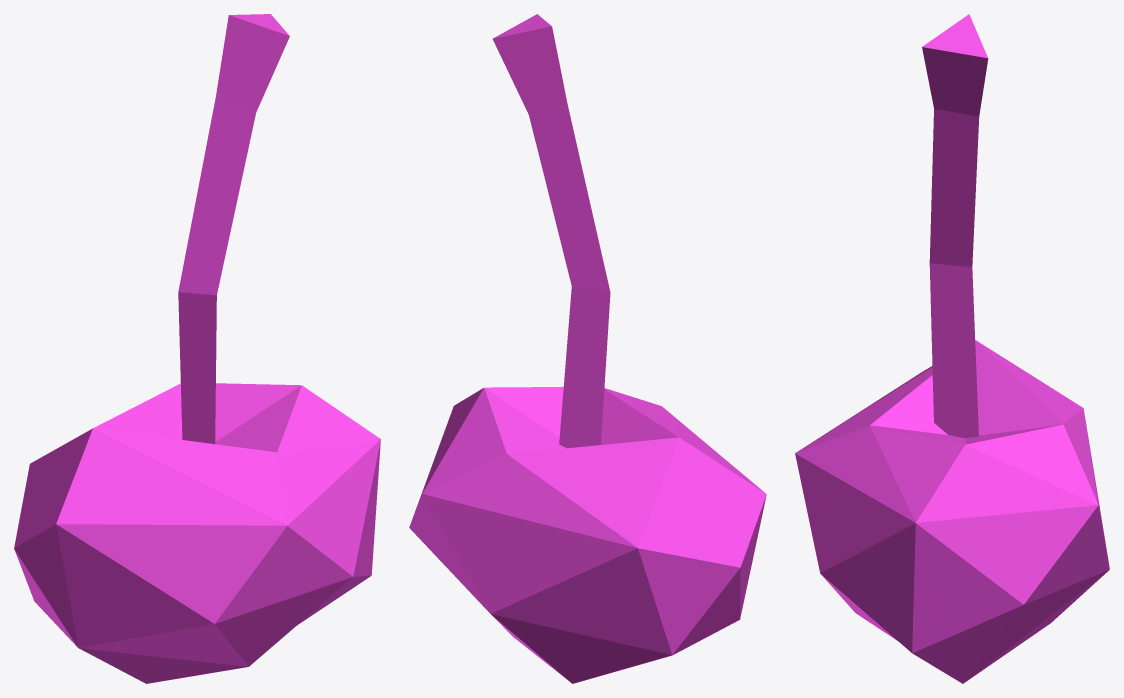
The model's file is SM_Cherry_A.fbx.
3 renders of one model, left to right at view 1: azimuth 30°, elevation 25°; view 2: azimuth 150°, elevation 25°; view 3: azimuth 270°, elevation 25°, orthographic. The views are drawn at different scales.
Visible parts, largest first — view 1: SM_Cherry_A; view 2: SM_Cherry_A; view 3: SM_Cherry_A.
Boxes of the visible parts, x1=… form: SM_Cherry_A: x1=14, y1=14, x2=380, y2=683; SM_Cherry_A: x1=409, y1=14, x2=766, y2=683; SM_Cherry_A: x1=795, y1=14, x2=1109, y2=683.
Bounding box in the file's own units: 0.0612 × 0.1126 × 0.0495.
